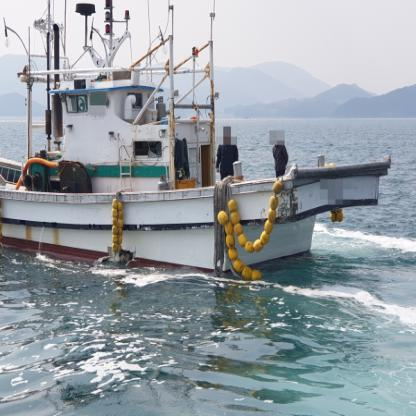fish-b: (0, 0, 397, 295)
